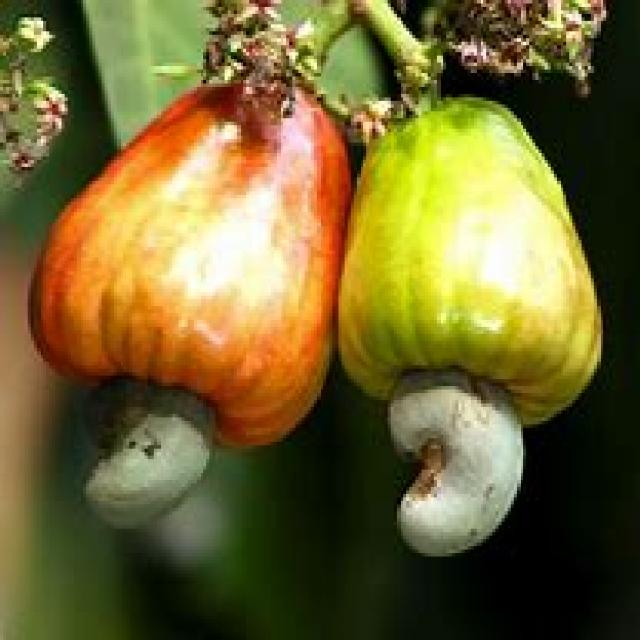cashew: (395, 355, 549, 561), (80, 383, 256, 537)
